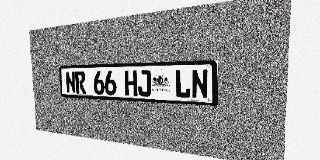6: (93, 71, 105, 95), (104, 71, 116, 95)
H: (124, 70, 138, 96)
J: (137, 70, 151, 97)
L: (175, 69, 191, 98)
N: (191, 69, 208, 99), (65, 71, 76, 93)
R: (75, 71, 86, 94)
